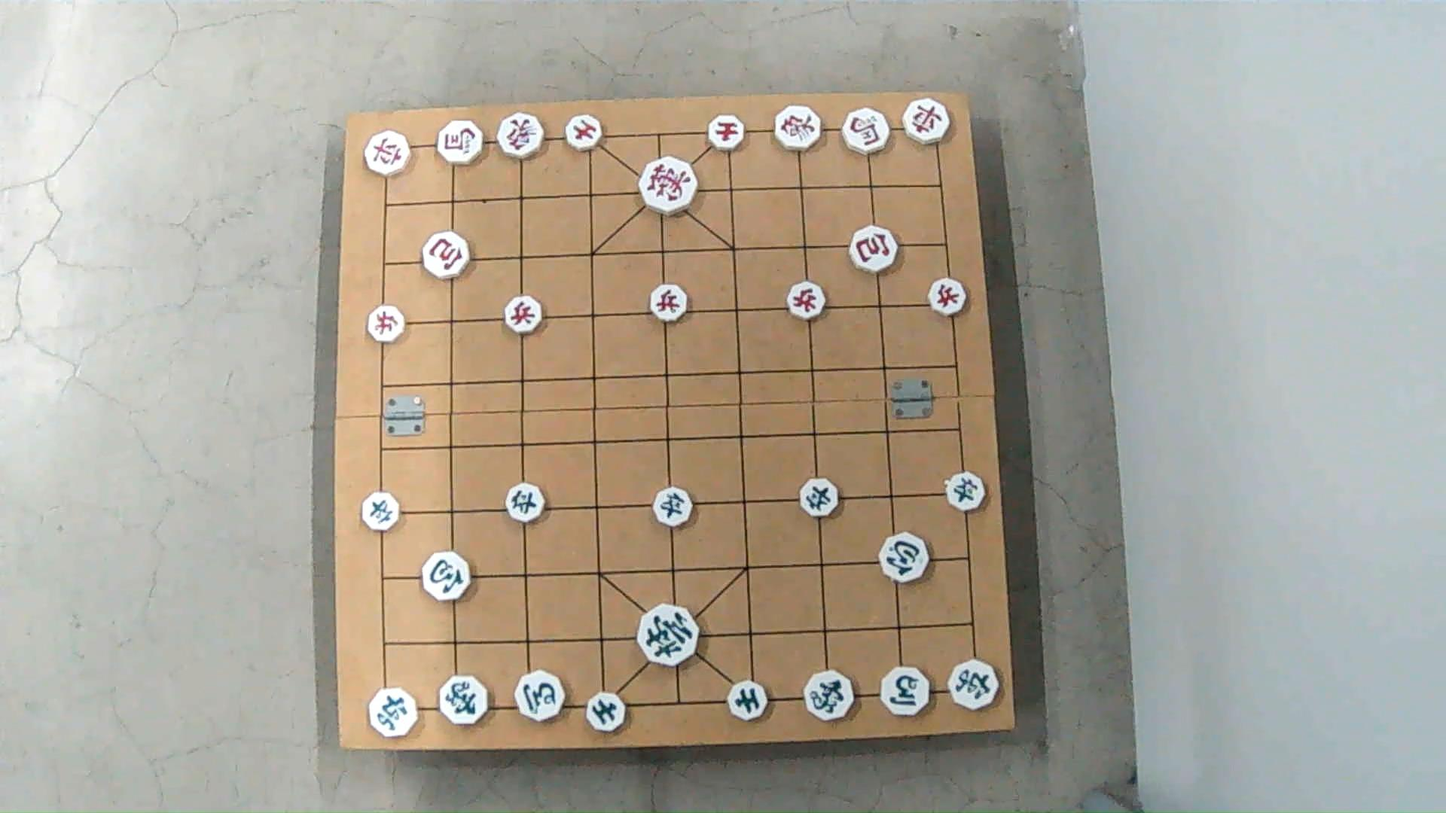cha_green: (947, 659, 999, 708), (371, 690, 419, 738)
cha_red: (901, 99, 951, 142), (364, 132, 411, 174)
jol_green: (945, 473, 987, 511), (652, 489, 694, 526), (799, 480, 840, 517), (508, 485, 548, 522), (364, 493, 403, 530)
jol_red: (648, 286, 688, 323), (928, 279, 969, 314), (789, 282, 828, 318), (368, 307, 407, 343), (501, 297, 539, 333)
ma_green: (879, 662, 931, 718), (514, 671, 567, 722)
ma_red: (842, 111, 890, 154), (434, 121, 481, 163)
po_green: (419, 551, 471, 599), (879, 537, 929, 583)
po_red: (849, 228, 898, 272), (422, 234, 469, 277)
sa_green: (725, 678, 771, 722), (587, 695, 627, 732)
sa_red: (564, 116, 602, 150), (709, 117, 747, 150)
sang_green: (803, 671, 856, 721), (441, 678, 490, 726)
sang_red: (770, 106, 822, 152), (494, 113, 543, 156)
wang_green: (636, 606, 700, 665)
wang_red: (637, 159, 696, 213)
